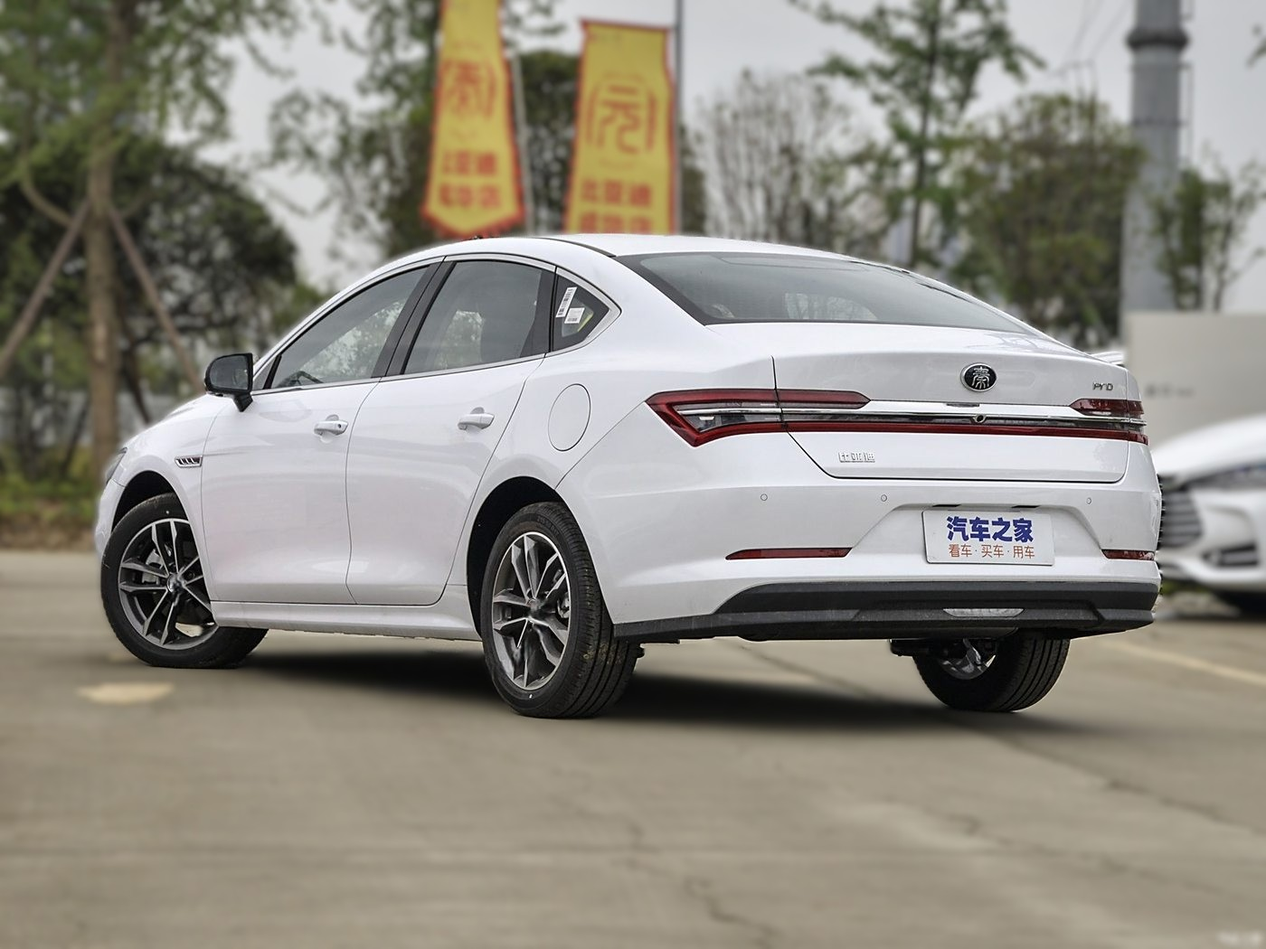BYD Qin: (961, 363, 997, 391)
